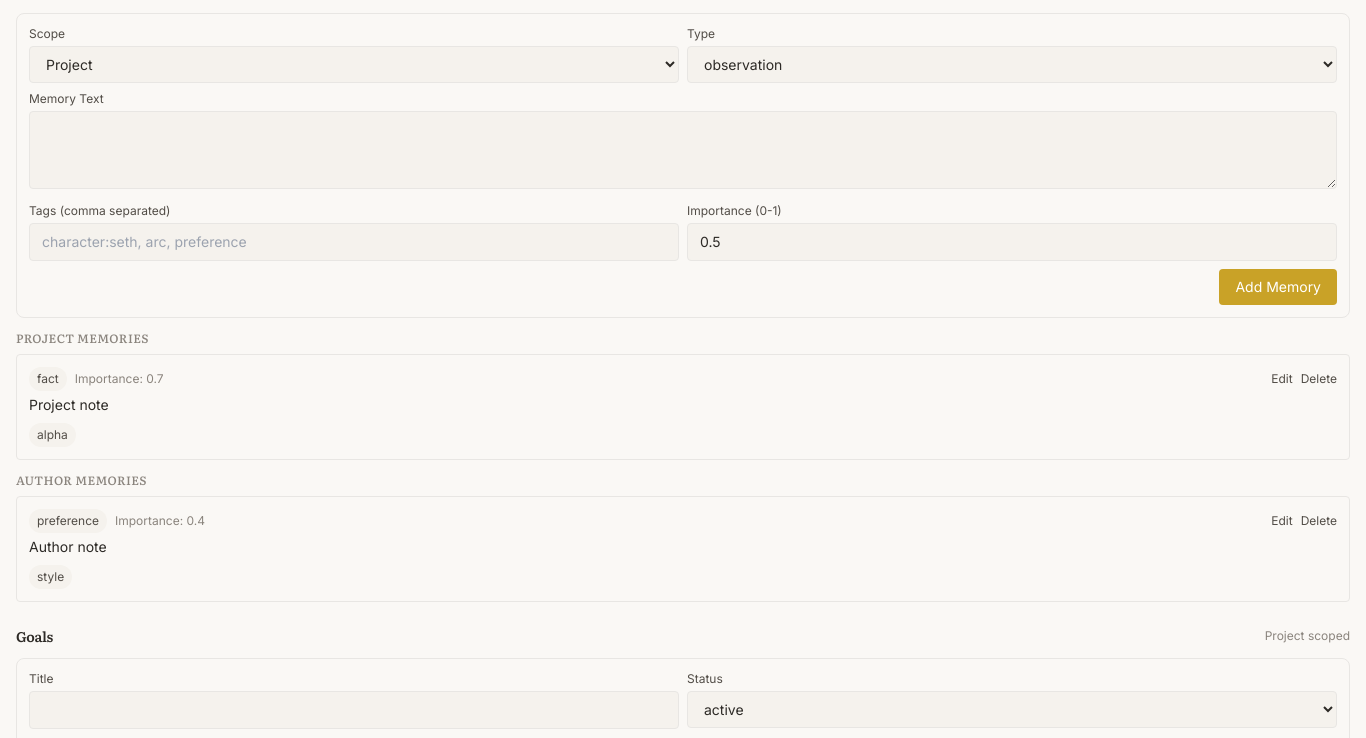
MemoryManager › shows error when deleting memory fails
(page scrolled)
Check: the text "Project note" is shown, box [29,396,109,413]
# Assuming first one is memory delete
Click the button "Delete" in the row of "0.7" at (1319, 379), box [1301,371,1337,387]
(page scrolled)
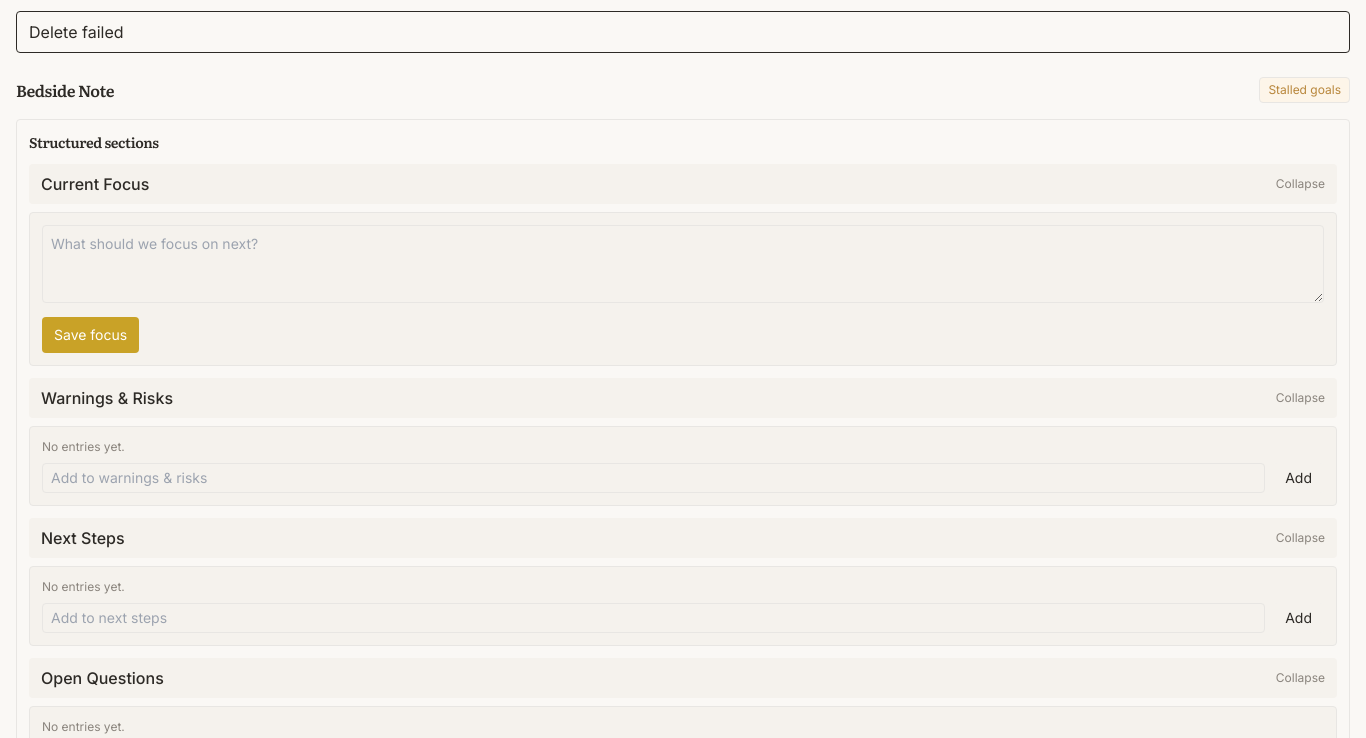
Check: the text "Delete failed" is shown, box [16,11,1350,53]
